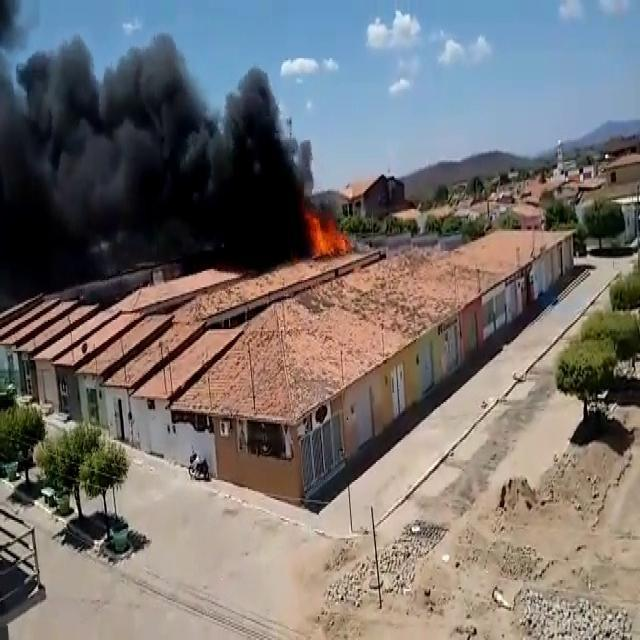Fire: (306, 223, 348, 262)
Smoke: (0, 0, 305, 273)
